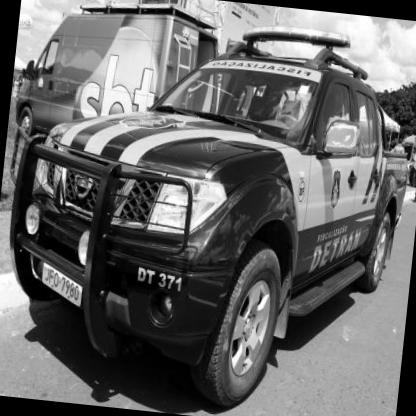truck: (1, 1, 416, 411)
